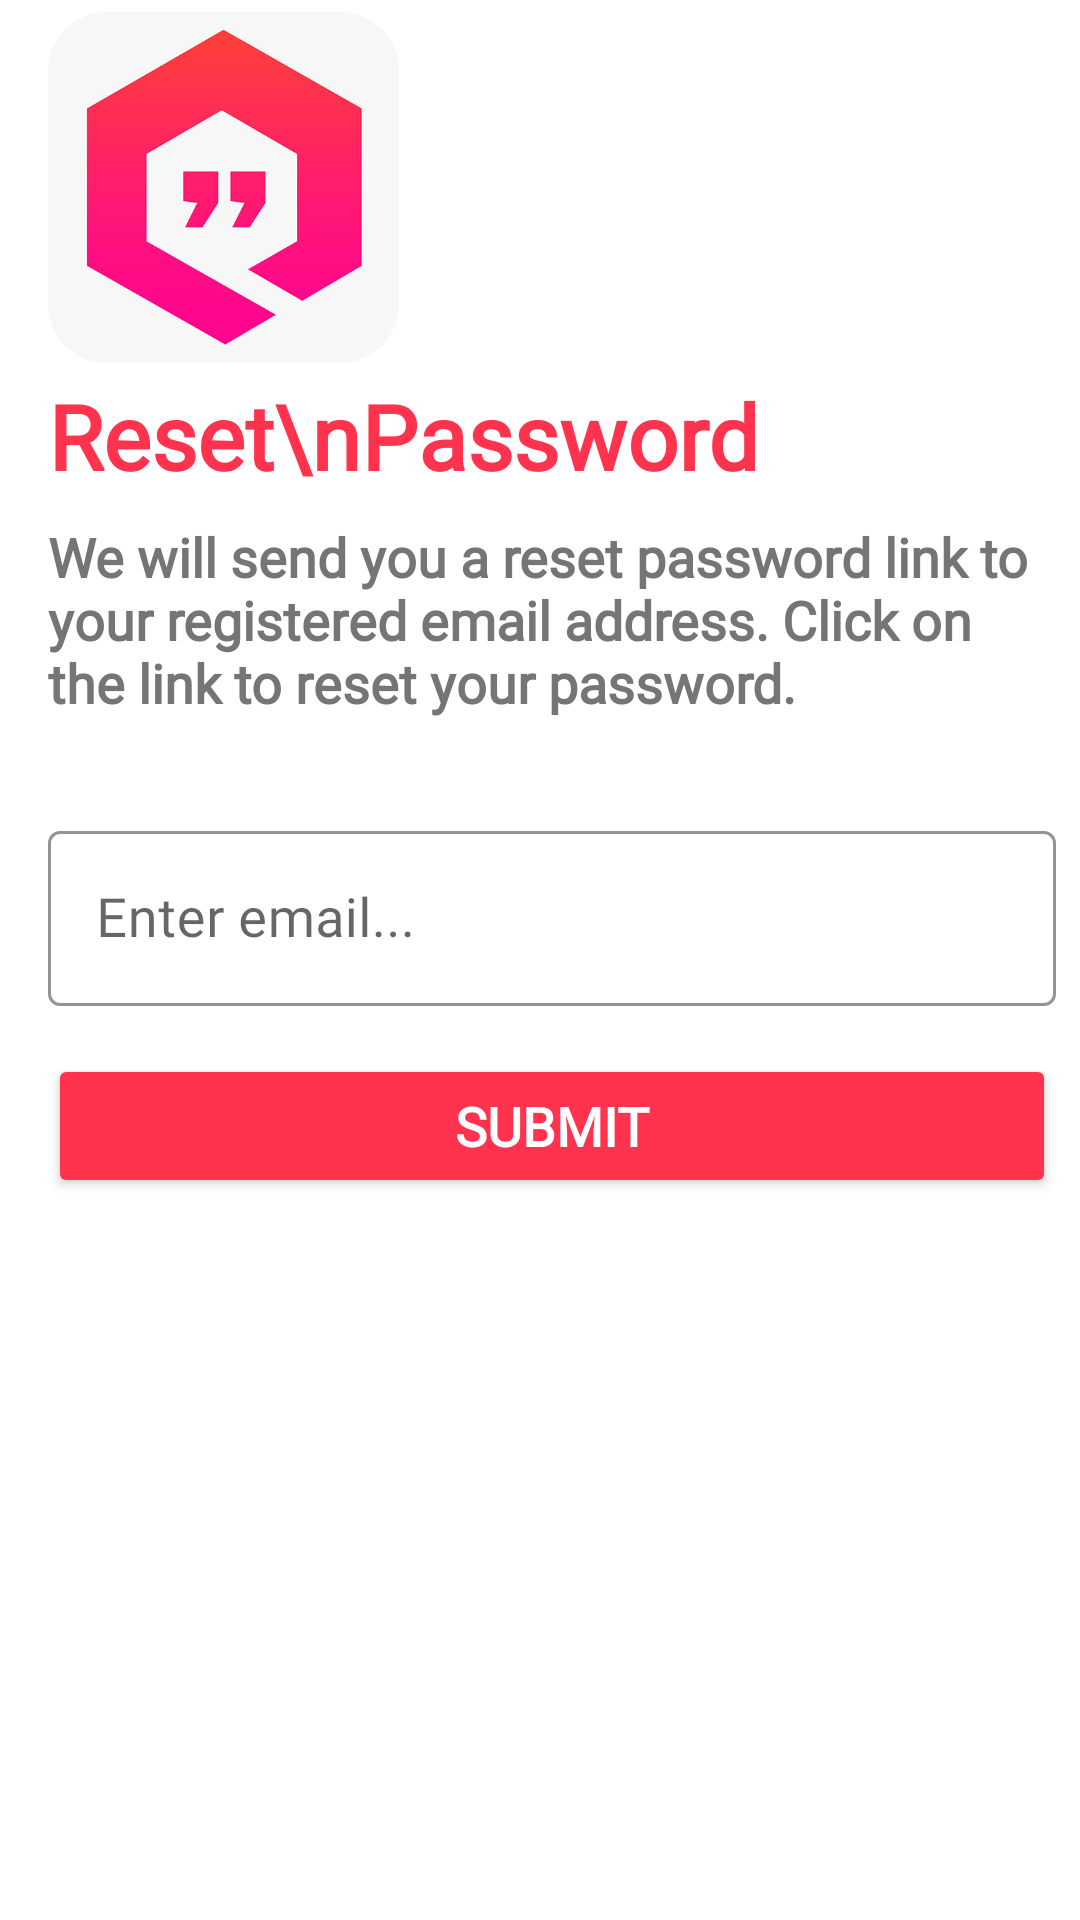

Icons on this 1080 x 1920 Android screen, each with the point to tap as [x,y]:
mquotes: [224,187]
